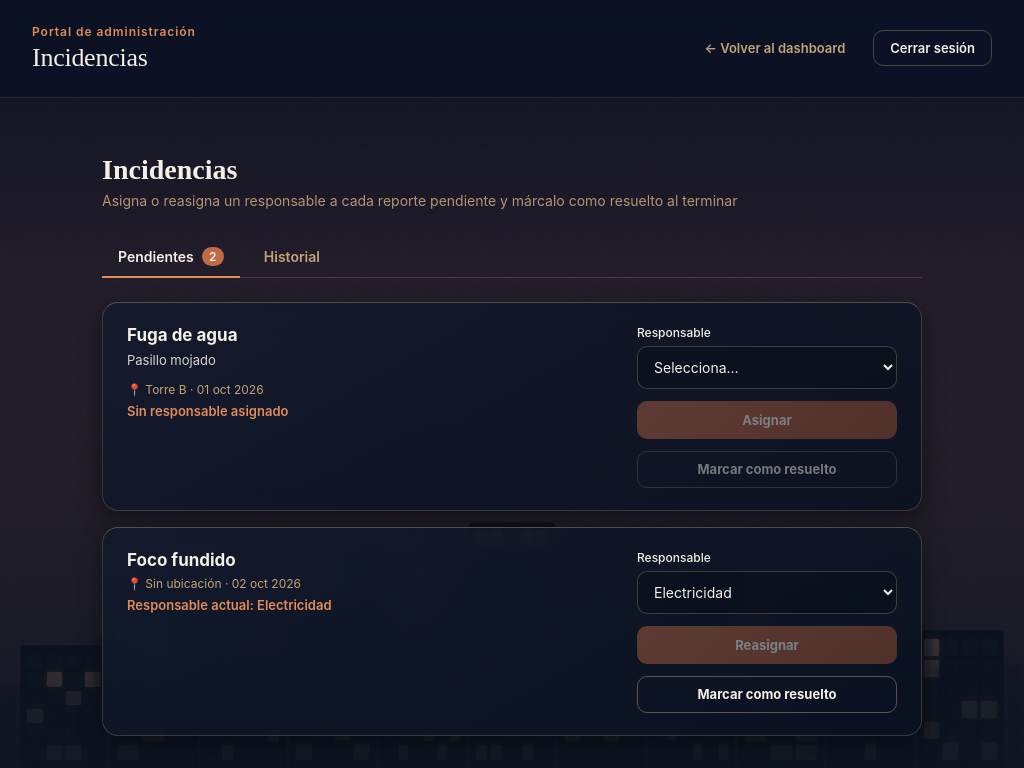
Test: CU-08 pendientes › si la incidencia ya no está pendiente tras asignar, sale de la lista
Check: the heading "Fuga de agua" is shown, box [127,325,238,345]
Select "Plomería" in the dropdown labelled "Responsable" in the row of "Pasillo mojado": [767, 367] box [637,346,897,389]
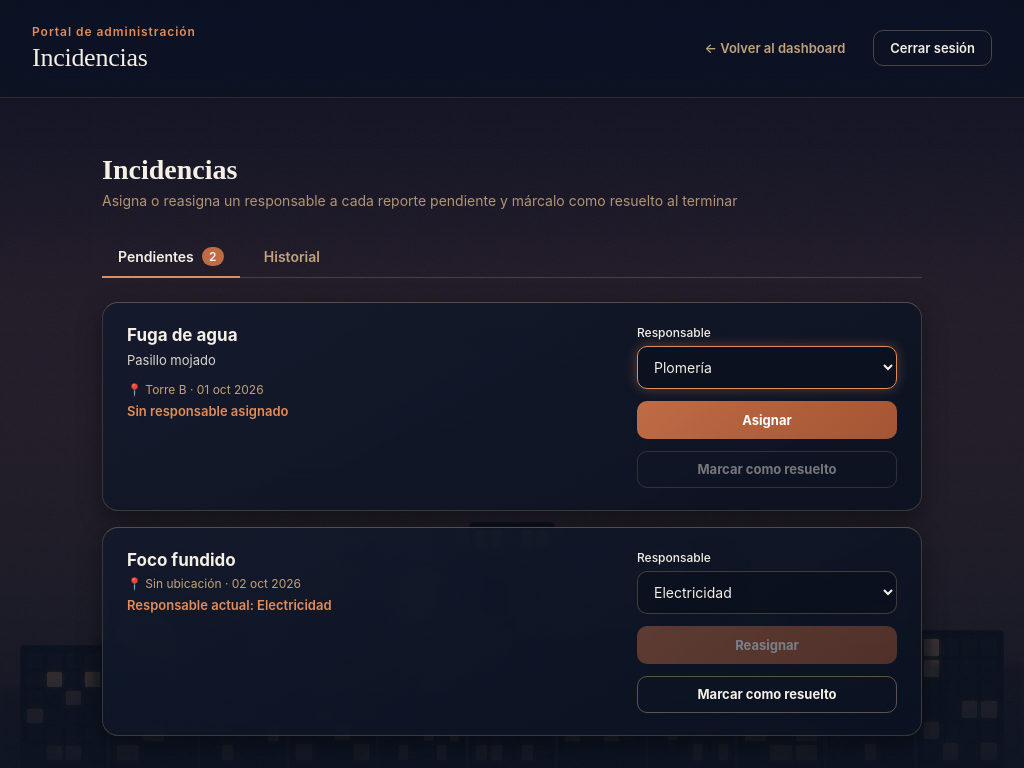
Click the button "Asignar": [767, 420] box [637,401,897,439]
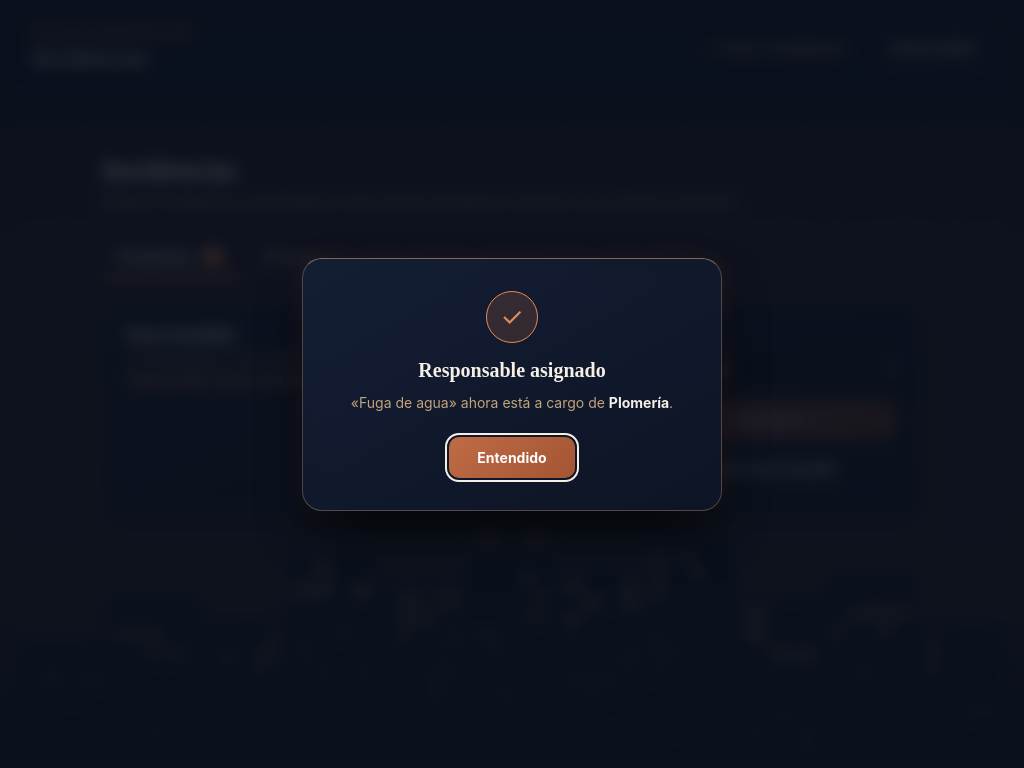
Check: the dialog is shown, box [302,258,722,510]
